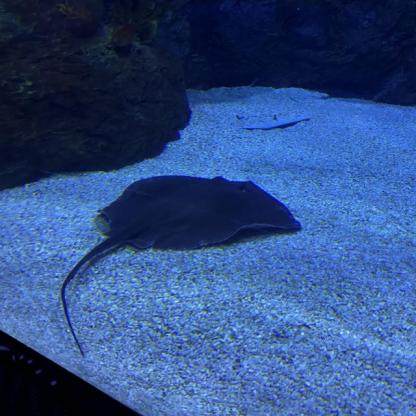stingray: (97, 176, 301, 250)
